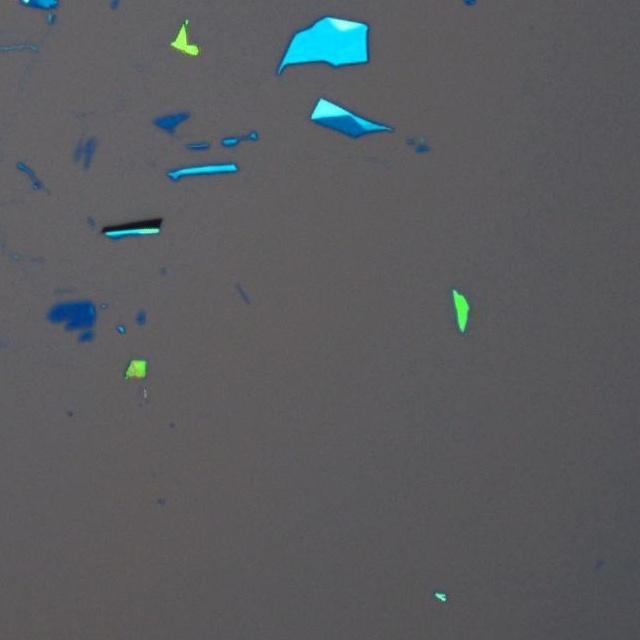monolayer-eWW4: (72, 140, 84, 164)
